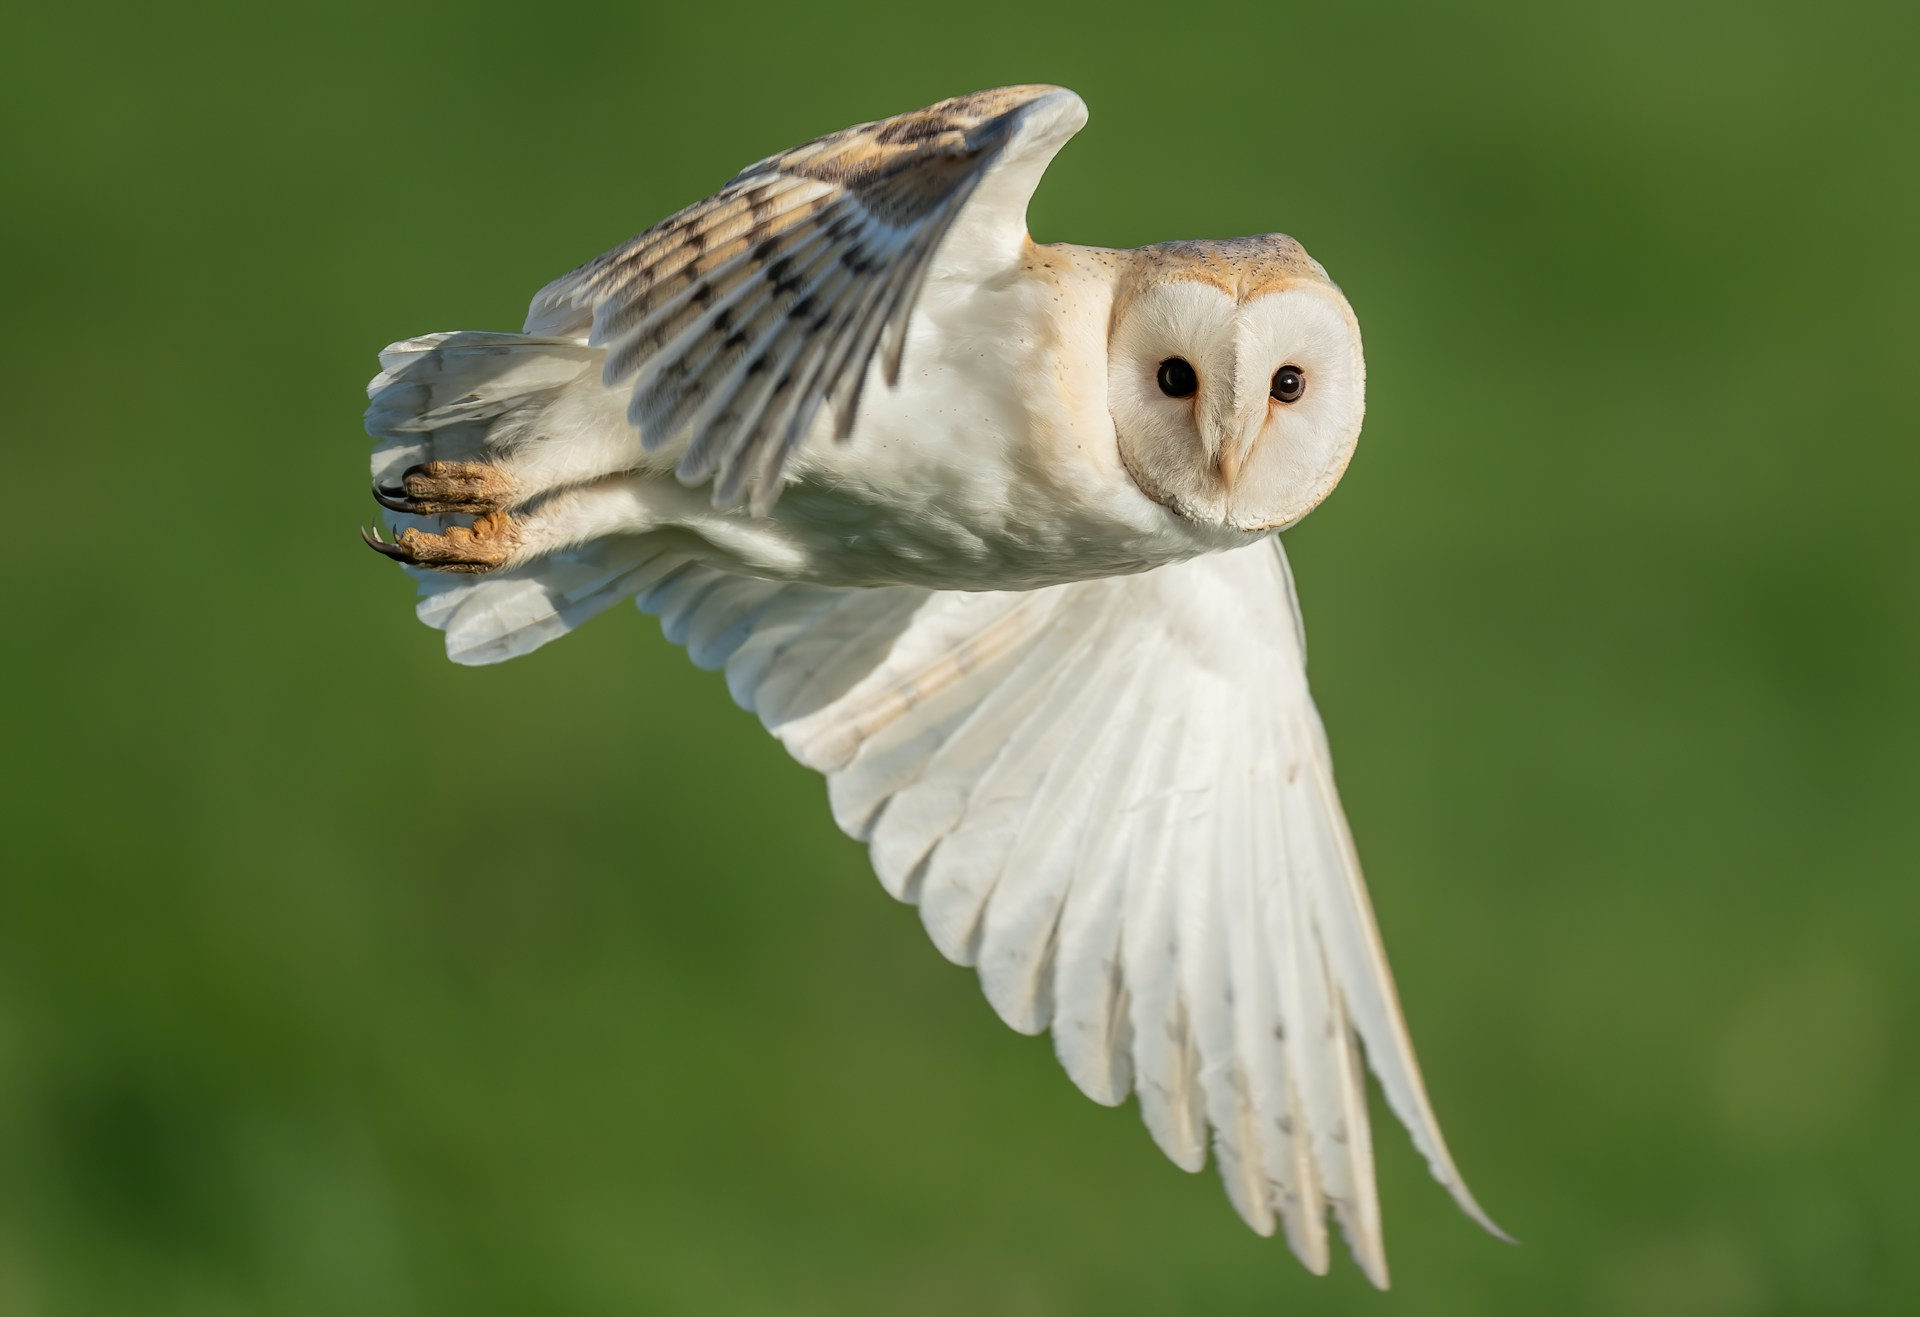owl: (346, 73, 1544, 1299)
